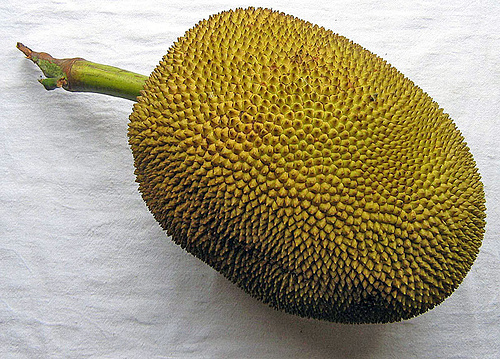jackfruit: (15, 5, 487, 327)
